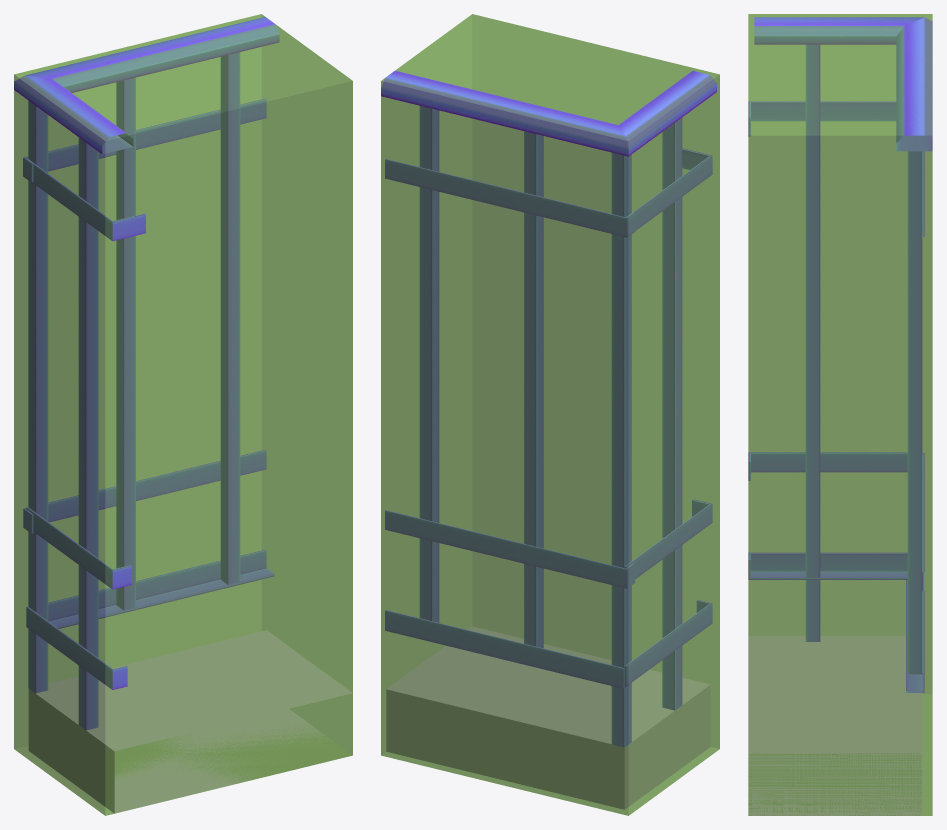
Rendered from F_md_Balcony_S_end_02_m.fbx.
The picture shows the model from 3 angles, left to right: view 1: azimuth 30°, elevation 25°; view 2: azimuth 150°, elevation 25°; view 3: azimuth 270°, elevation 25°; orthographic projection.
Visible parts, largest first — view 1: F_md_Balcony_S_end_02_m_col_01, F_md_Balcony_S_end_02_m_LOD0; view 2: F_md_Balcony_S_end_02_m_col_01, F_md_Balcony_S_end_02_m_LOD0; view 3: F_md_Balcony_S_end_02_m_col_01, F_md_Balcony_S_end_02_m_LOD0.
Part boxes in pixels (bbox=[...]): F_md_Balcony_S_end_02_m_col_01: bbox=[14, 14, 352, 815]; F_md_Balcony_S_end_02_m_LOD0: bbox=[14, 17, 352, 813]; F_md_Balcony_S_end_02_m_col_01: bbox=[381, 14, 719, 815]; F_md_Balcony_S_end_02_m_LOD0: bbox=[381, 70, 716, 809]; F_md_Balcony_S_end_02_m_col_01: bbox=[748, 14, 932, 815]; F_md_Balcony_S_end_02_m_LOD0: bbox=[748, 17, 932, 815].
Size of what is drawn, in the model's own units: 41.54 by 108 by 26.54.
